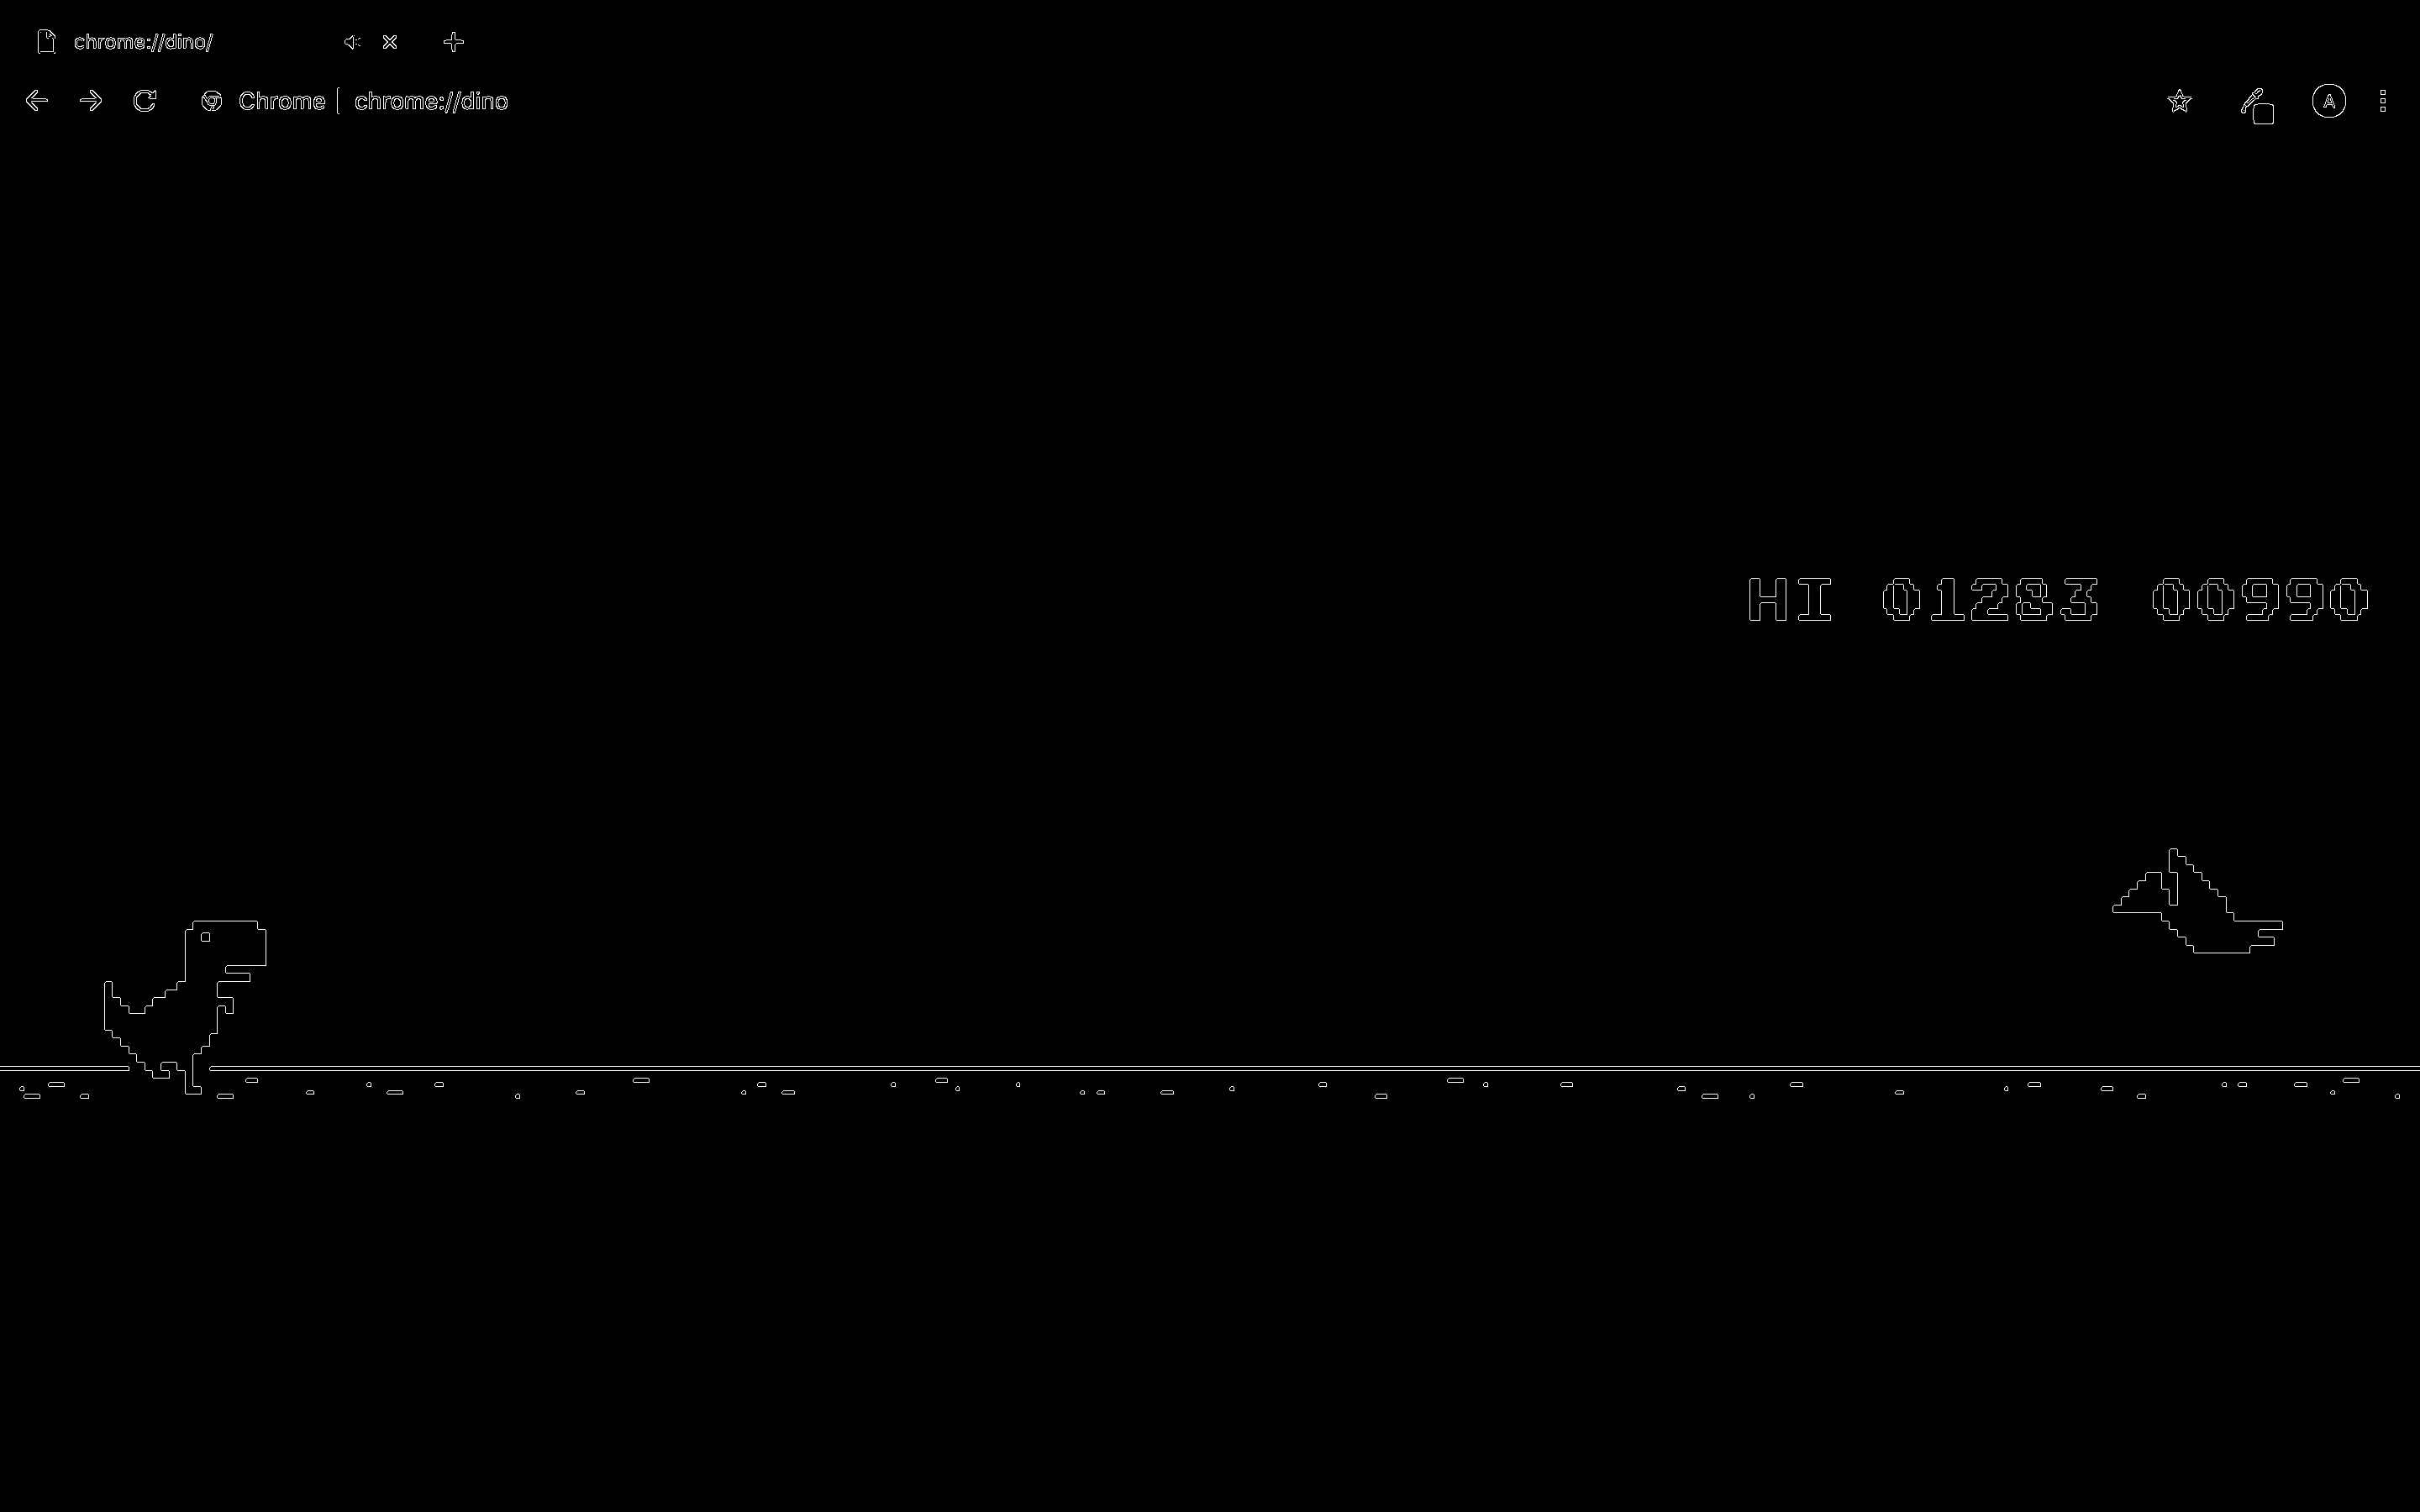Bird: (2115, 852, 2288, 965)
Dino: (103, 909, 272, 1089)
